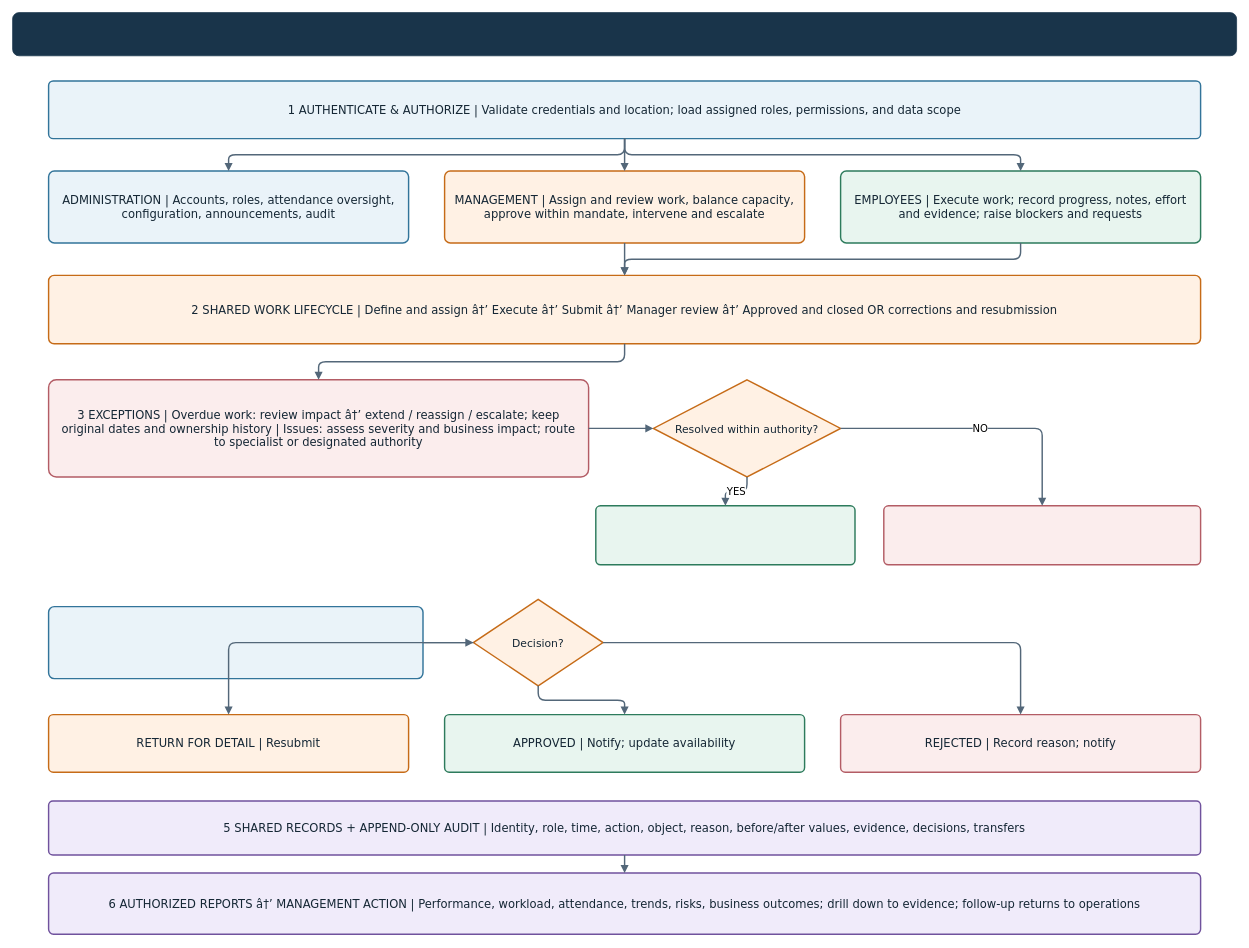
Some shapes in this 1249 by 948 pixel diagram are drawn without their labels. Each missing label, with the centre of its shape:
"4 ATTENDANCE & REQUESTS | Reviewer checks dates, explanation, evidence" belongs at [235,642].
"CIRIL | INTERNAL OPERATIONS TRACKING SYSTEM â€” EXECUTIVE OVERVIEW" belongs at [624,34].
"NO | Escalate; keep open with owner and next review date" belongs at [1042,535].
"YES | Verify resolution; record evidence; resume work" belongs at [725,535].
